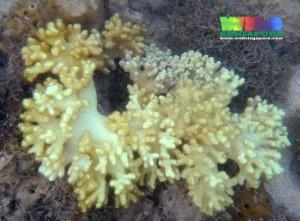bleached_corals: (14, 11, 296, 221)
